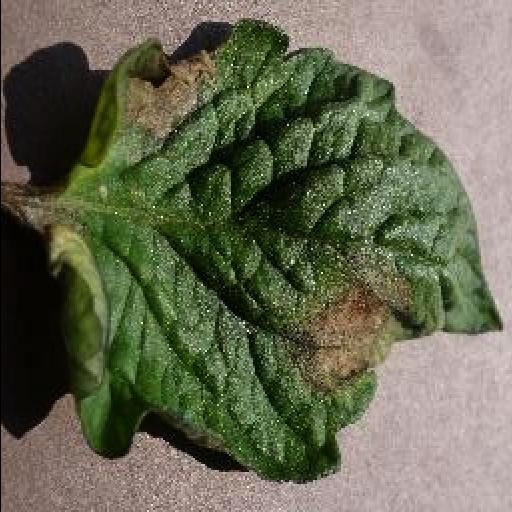disease_tomato: (42, 18, 506, 484)
